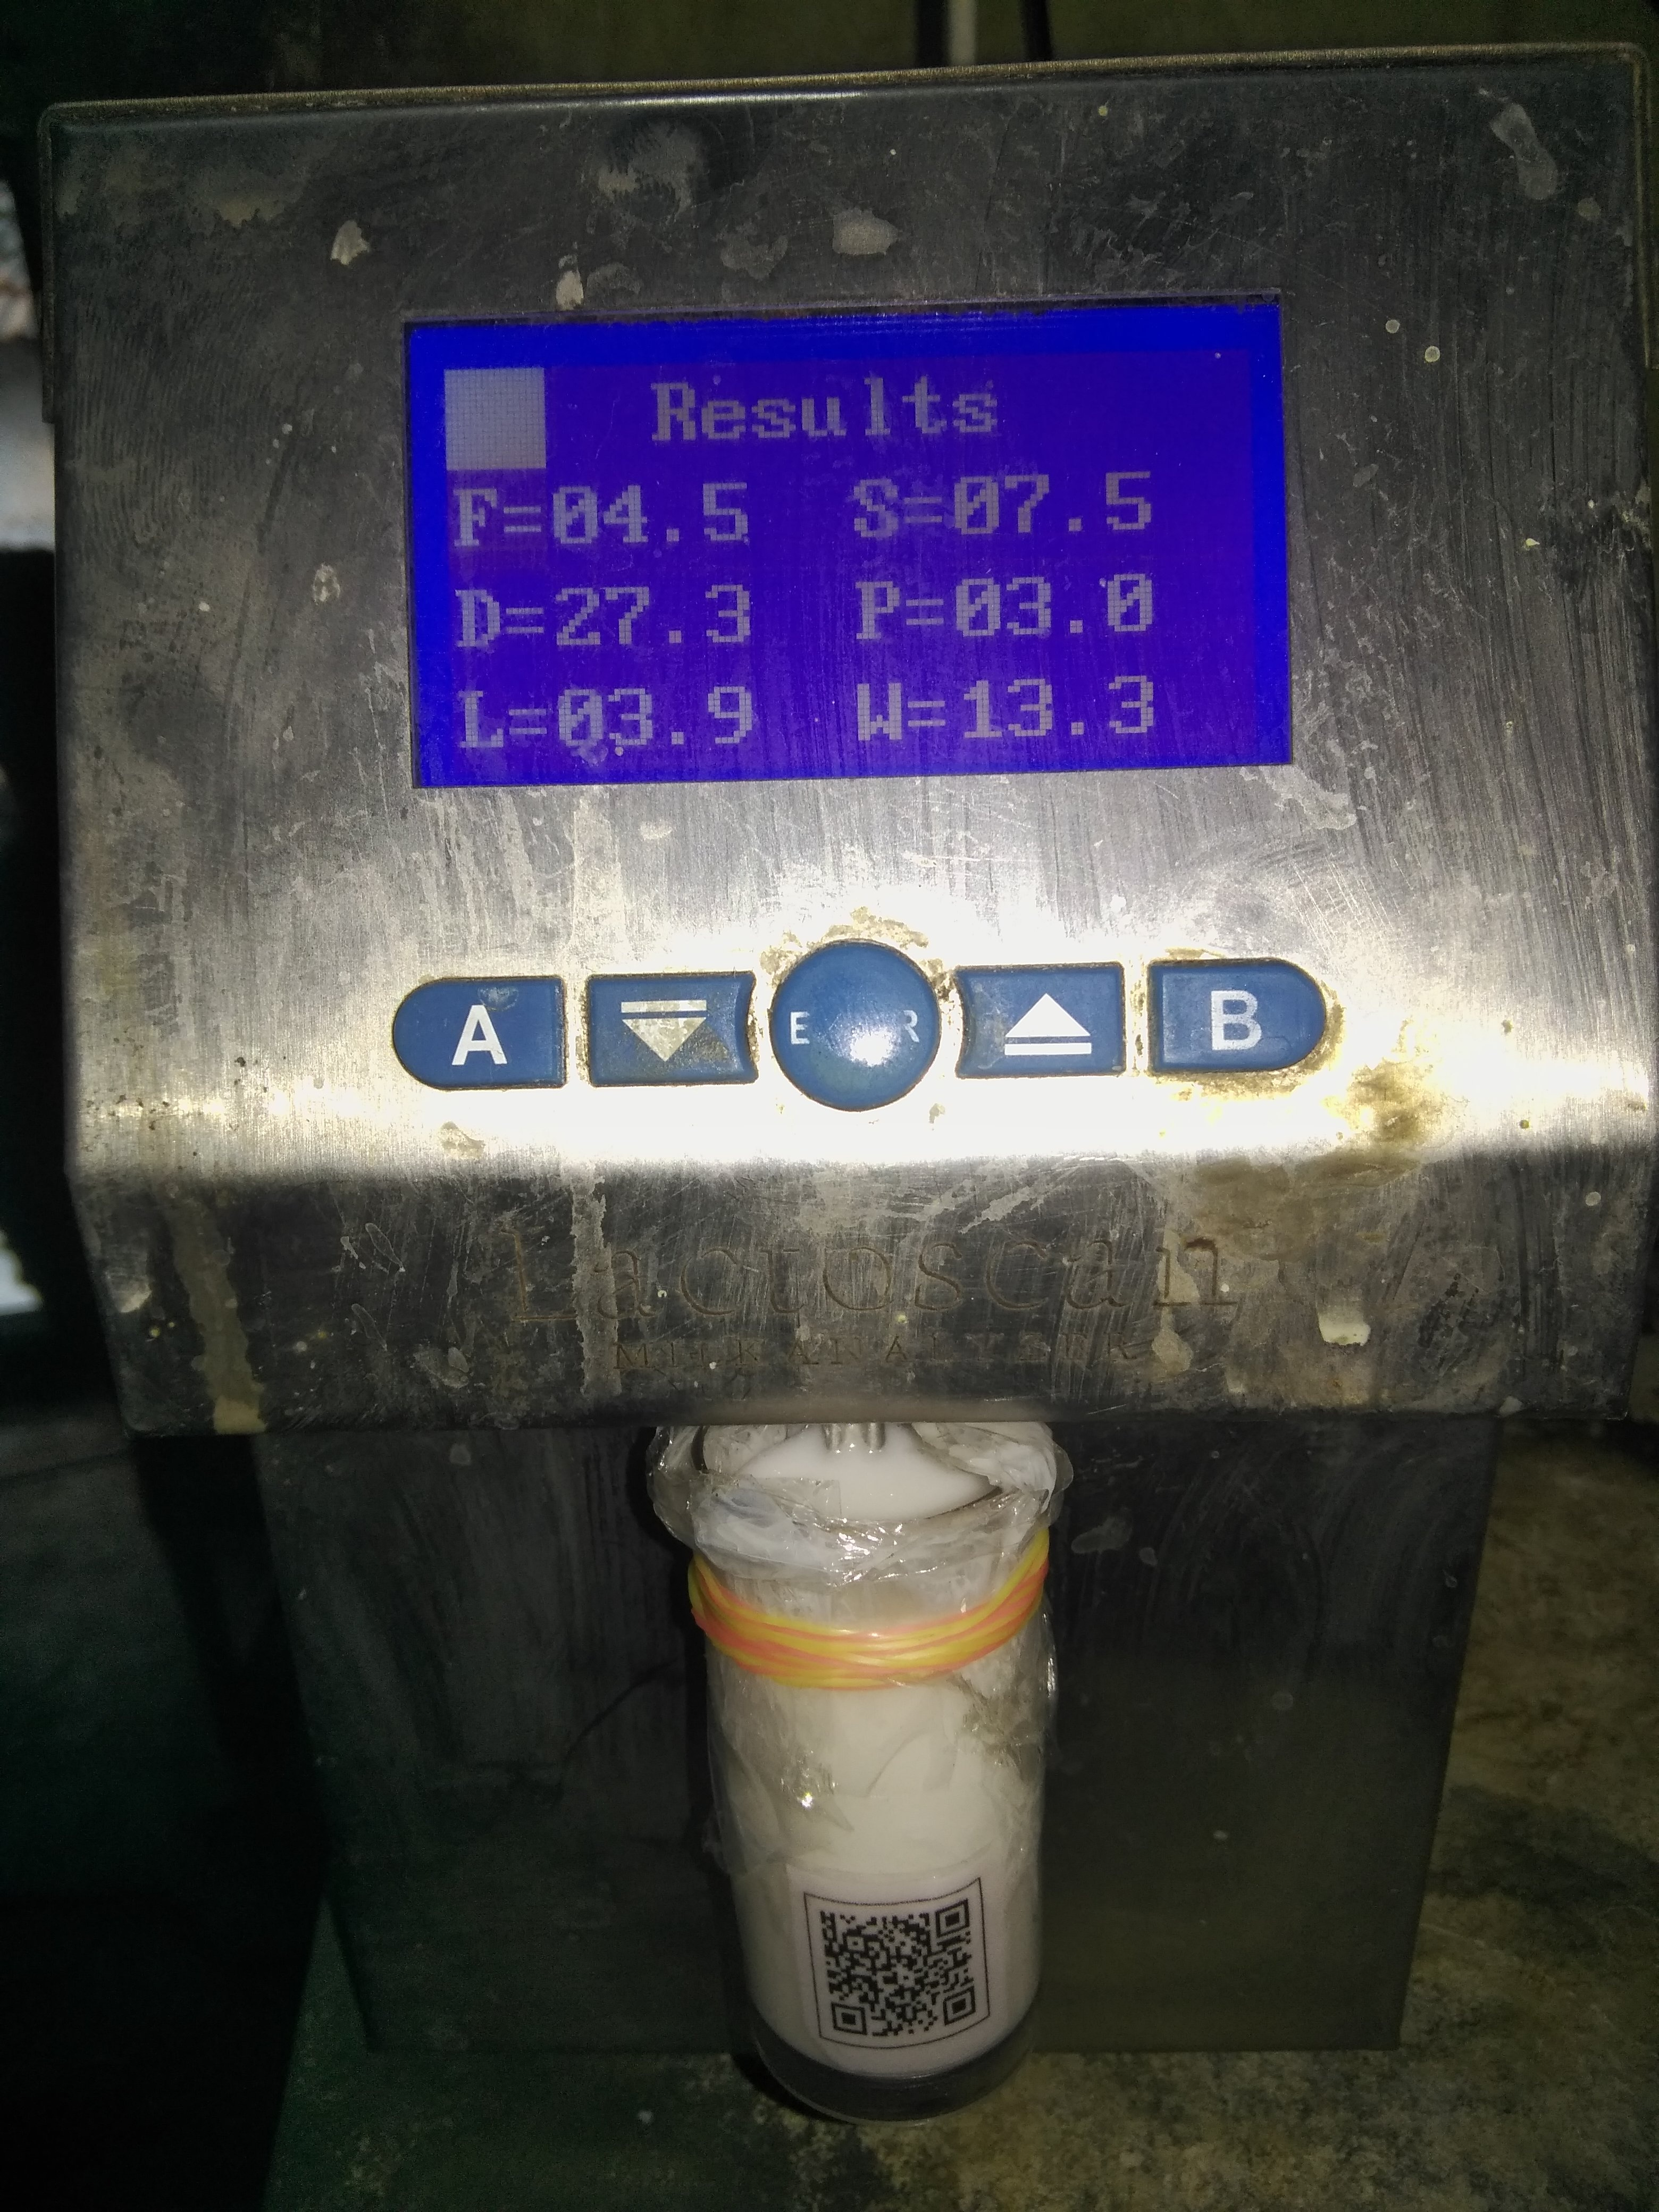lcd: (375, 237, 1321, 836)
qr: (800, 1864, 1016, 2066)
